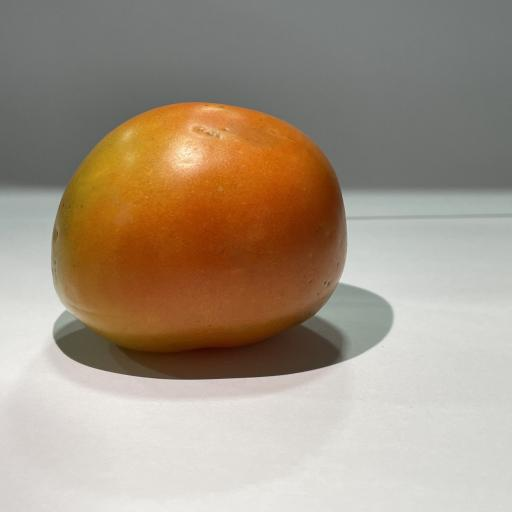unripe: (51, 102, 346, 352)
